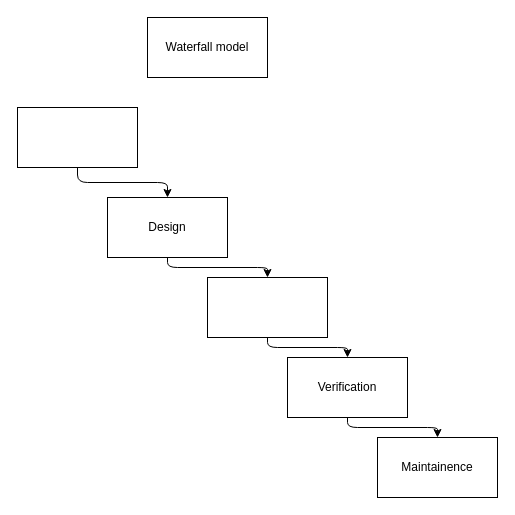
Image size: 515x515. Some labels were removed from this diagram. The centre of each missing label's shape, as x and y in pixels:
"Implementation" belongs at point 267,307.
"Requirement" belongs at point 77,137.
